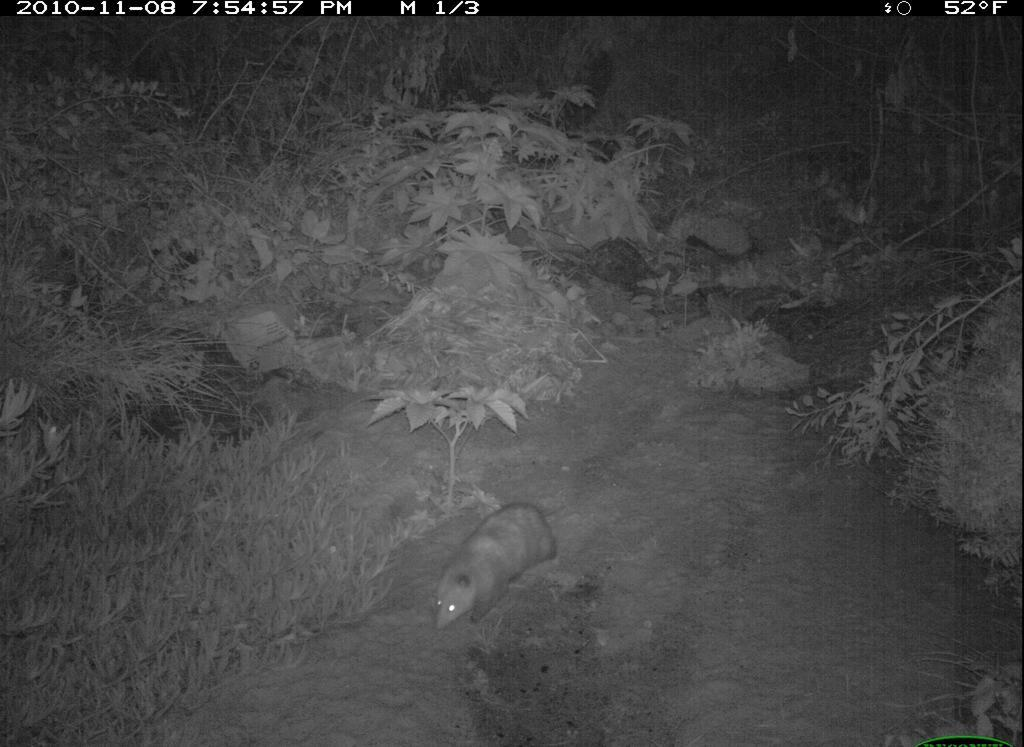opossum: (420, 482, 574, 642)
